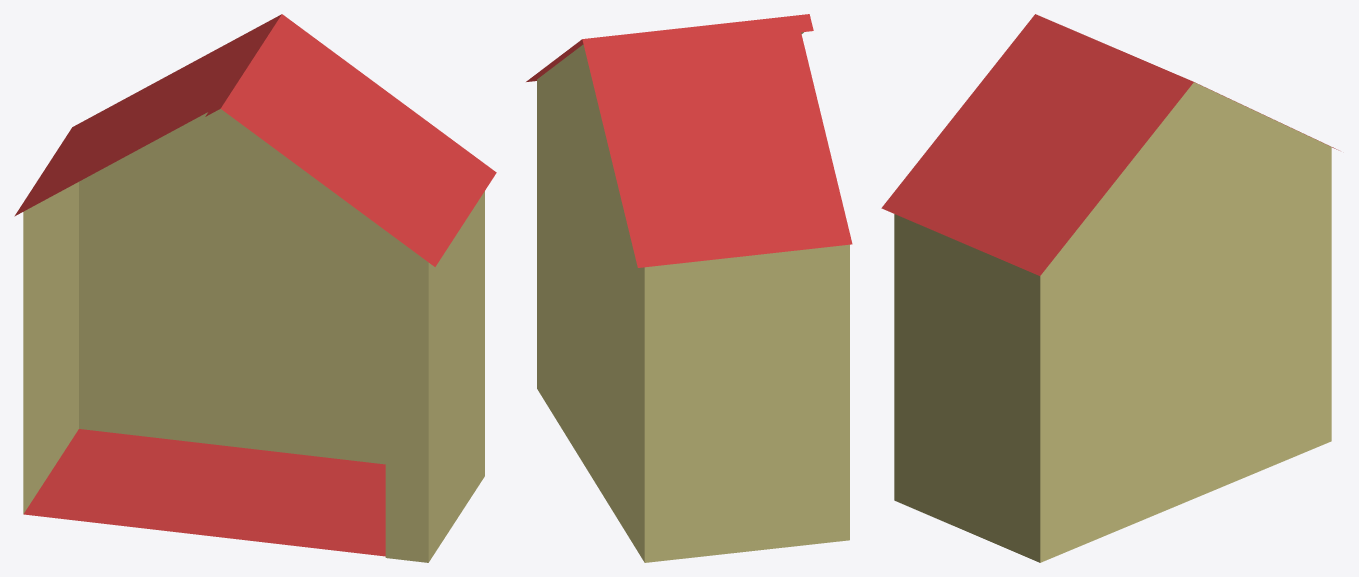
The picture shows the model from 3 angles, left to right: view 1: azimuth 30°, elevation 25°; view 2: azimuth 150°, elevation 25°; view 3: azimuth 270°, elevation 25°; orthographic projection. The views are drawn at different scales.
Bounding box in the file's own units: 12.21 × 12.51 × 12.57.
